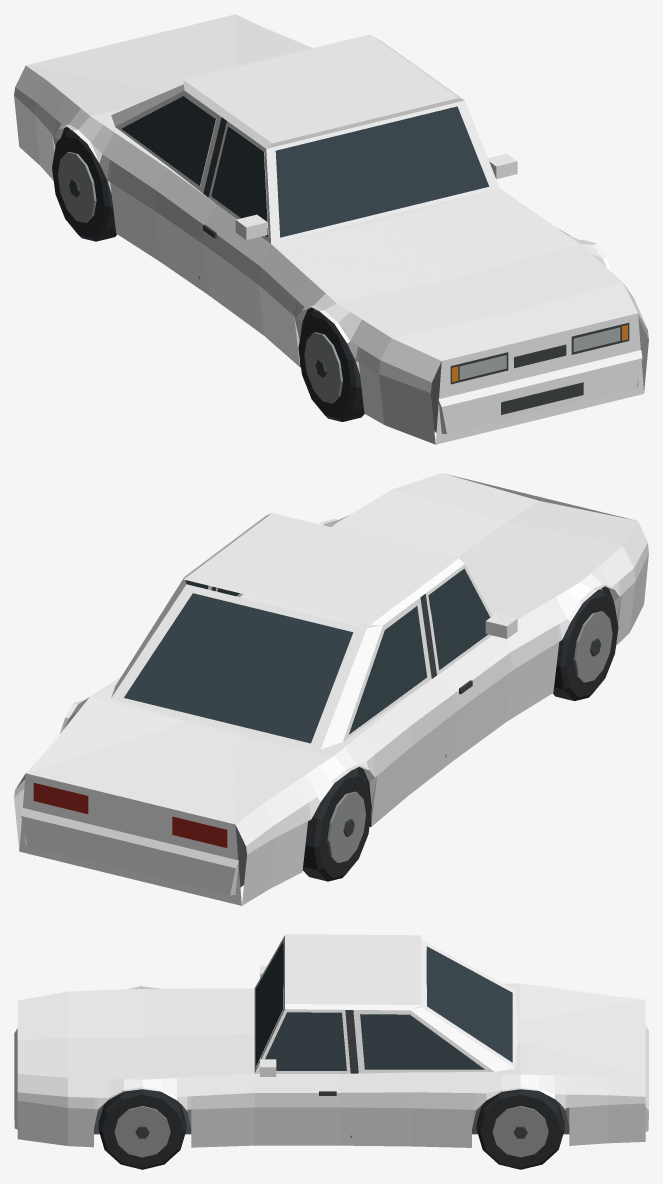
Rendered from sanga_tsukikage_s_iii.glb.
The picture shows the model from 3 angles, top to bottom: view 1: azimuth 30°, elevation 25°; view 2: azimuth 150°, elevation 25°; view 3: azimuth 270°, elevation 25°; orthographic projection. The views are drawn at different scales.
Parts seen in each view (by area): view 1: sanga_tsukikage_s_iii; view 2: sanga_tsukikage_s_iii; view 3: sanga_tsukikage_s_iii.
Boxes of the visible parts, bbox=[...] form: sanga_tsukikage_s_iii: bbox=[14, 14, 648, 444]; sanga_tsukikage_s_iii: bbox=[14, 473, 648, 905]; sanga_tsukikage_s_iii: bbox=[14, 934, 648, 1169].
Size of the model in its own units: 1.82 by 1.24 by 4.7.
Materials: 8 (1 with a texture image).
